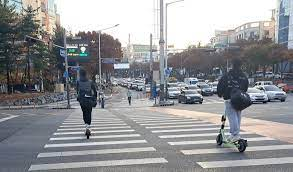kick_wheel: (216, 135, 222, 145), (86, 129, 90, 139)
